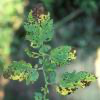Tomato Septoria leaf spot: (23, 3, 57, 48), (54, 70, 100, 96), (1, 59, 41, 87), (46, 46, 81, 66), (23, 47, 40, 60)
